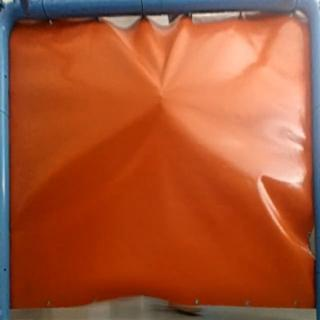Hit-hRxx: (153, 89, 173, 105)
